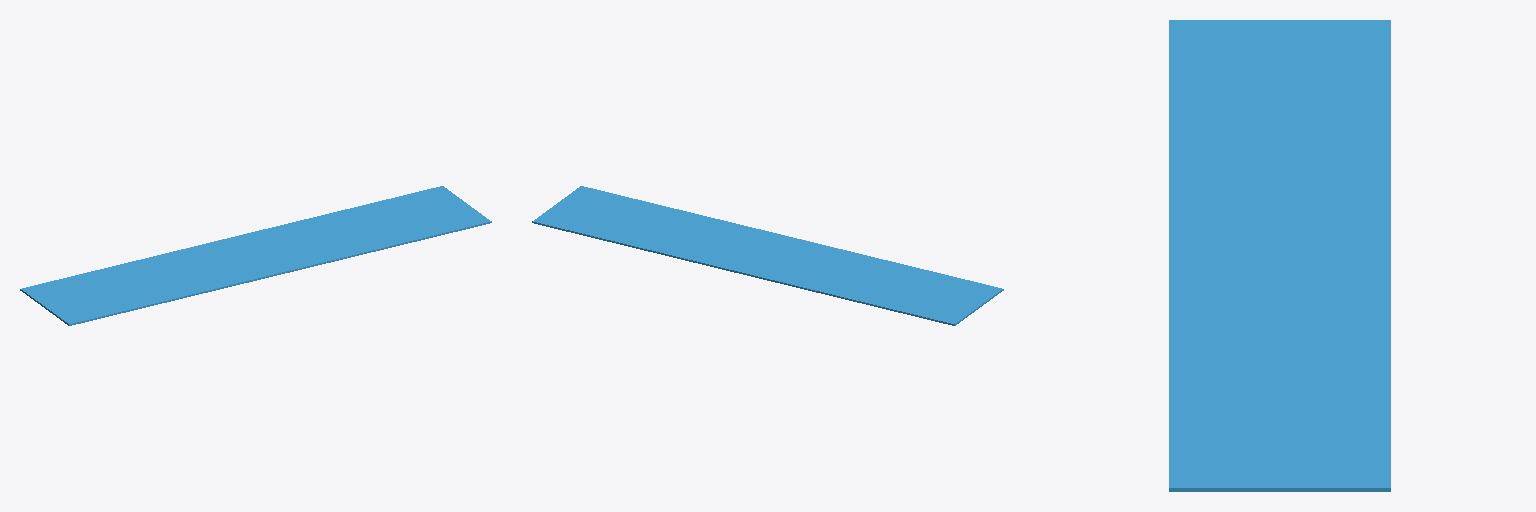
robot.urdf — conveyor_belt:
<?xml version="1.0"?>
<robot name="conveyor_belt">

  <!-- world link -->
  <link name="world"/>

  <!-- base_link and its fixed joint -->
  <joint name="joint_fix" type="fixed">
    <parent link="world"/>
    <child link="base_link"/>
  </joint>

  <link name="base_link">
    <collision>
      <origin xyz="0 -0.7 0.065" rpy="0 0 0"/>
      <geometry>
        <box size="5 1 0.02"/>
      </geometry>
    </collision>

    <visual>
      <origin xyz="0 -0.7 0.065" rpy="0 0 0"/>
      <geometry>
        <box size="5 1 0.02"/>
      </geometry>
    </visual>

    <inertial>
      <mass value="100"/>
      <inertia ixx="100" ixy="0.0" ixz="0.0"
               iyy="100" iyz="0.0"
               izz="100"/>
    </inertial>
  </link>

  <gazebo reference="base_link">
    <mu1>0</mu1>
    <mu2>0</mu2>
    <material>Gazebo/FlatBlack</material>
  </gazebo>

</robot>

--- What the picture shows (computed from the rendered views, not written in the file) ---
3 views of the same robot in one strip: view 1: azimuth 30°, elevation 25°; view 2: azimuth 150°, elevation 25°; view 3: azimuth 270°, elevation 25° (orthographic).
Model conveyor_belt with 2 links and 1 joints (1 fixed), rooted at world, posed all joints at 0.
Visible links, largest first — view 1: base_link; view 2: base_link; view 3: base_link.
Boxes of the visible links, x1,y1,x2,y2 form: base_link: [20, 186, 491, 325]; base_link: [532, 186, 1003, 325]; base_link: [1169, 20, 1390, 491].
Bounding box of the posed robot: 5 × 1 × 0.02 m (x, y, z).
Geometry: primitives only (box / cylinder / sphere), no mesh files.
